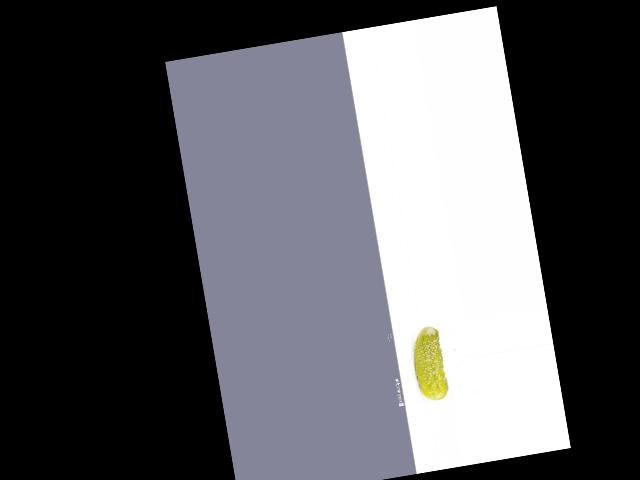cucumber: (408, 324, 450, 402)
